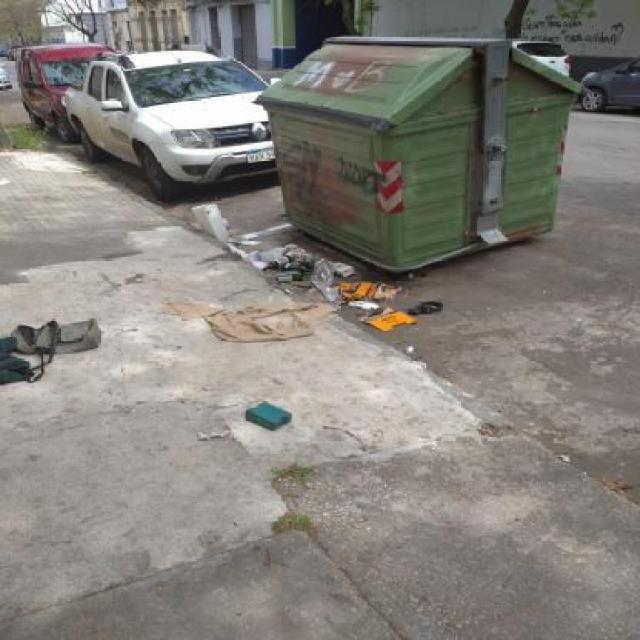garbage: (159, 196, 468, 393), (0, 260, 160, 426), (214, 399, 324, 442)
